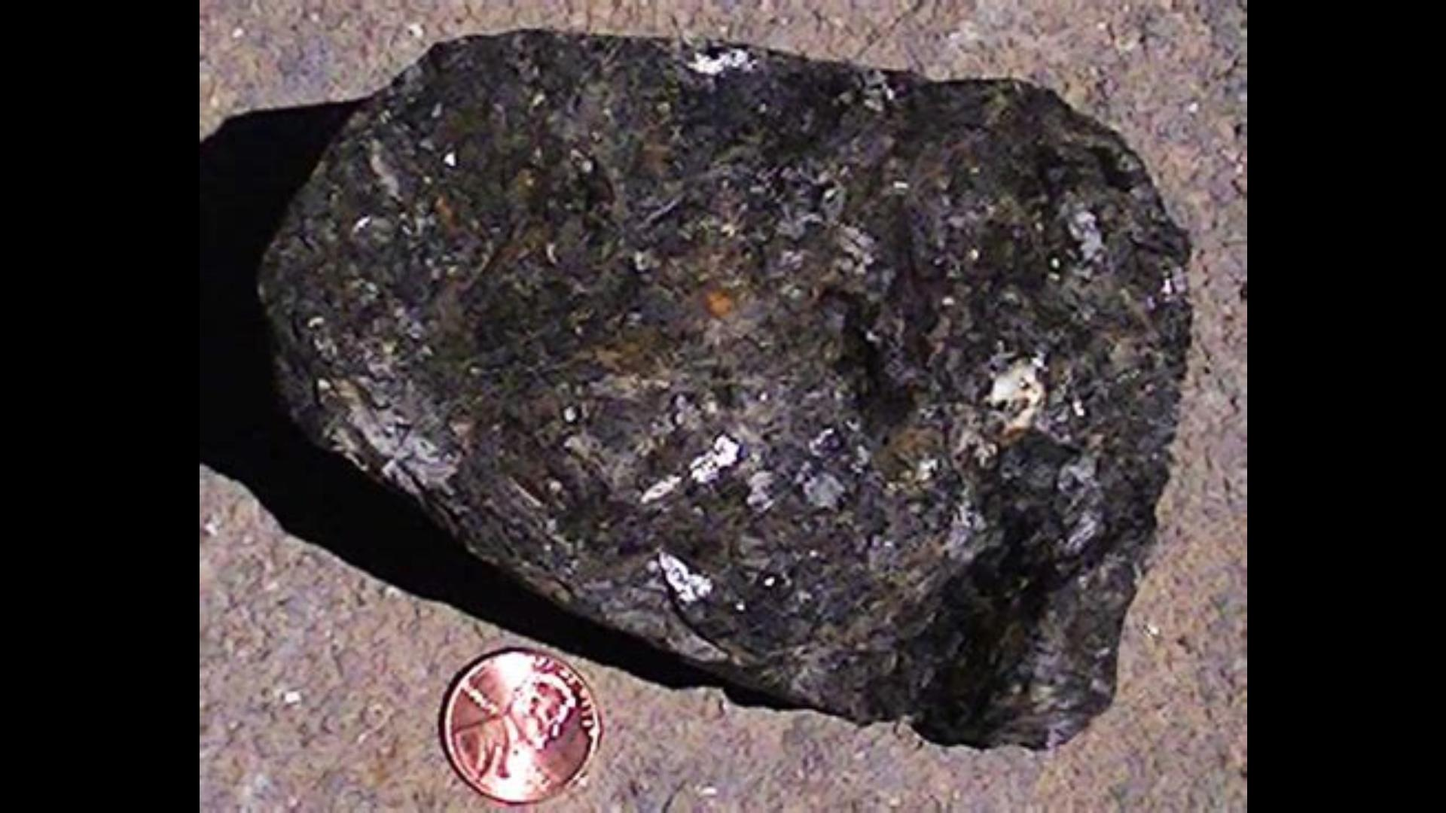rock: (259, 33, 1187, 742)
